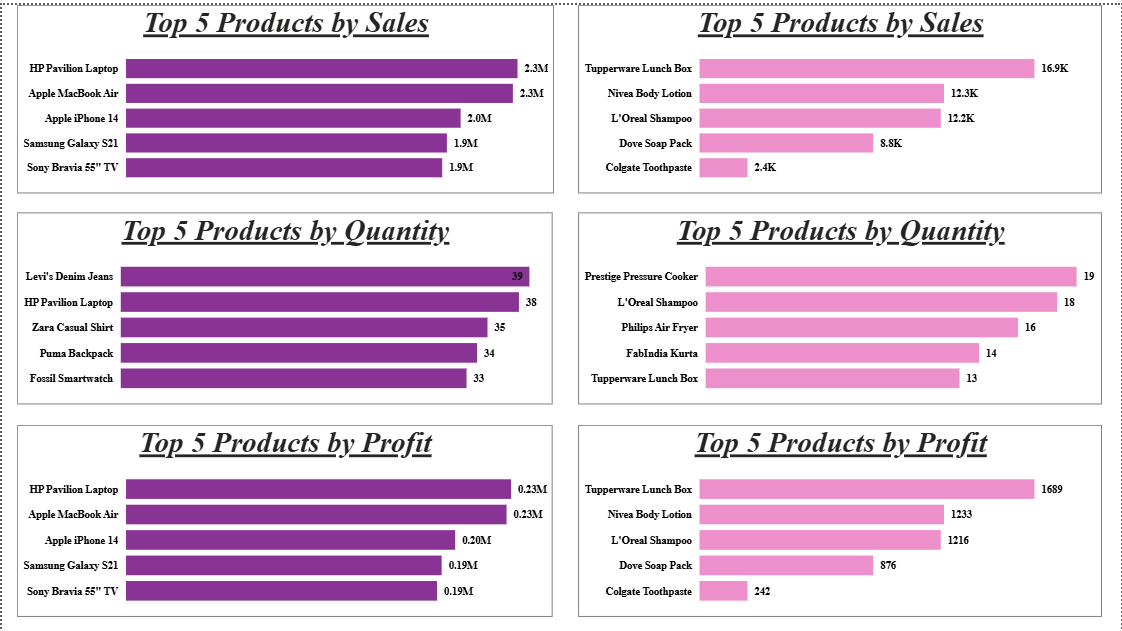

What the dashboard file says about the page in this screenshot:
{"tool":"powerbi","page":{"name":"Top/Bottom 5 Product Analysis","canvas":[1280,720],"ordinal":1},"visuals":[{"type":"barChart","title":"Top 5 Products by Sales ","fields":{"Category":["Dim Product.Product Name"],"Y":["Sum(Fact Data.Net Sales)"]},"box":[16.5,0,613.4,215.4],"z":0},{"type":"barChart","title":"Top 5 Products by Sales ","fields":{"Category":["Dim Product.Product Name"],"Y":["Sum(Fact Data.Net Sales)"]},"box":[658.7,0,598.3,215.4],"z":1000},{"type":"barChart","title":"Top 5 Products by Quantity","fields":{"Category":["Dim Product.Product Name"],"Y":["Sum(Fact Data.Units Sold)"]},"box":[16.5,237.4,612,219.6],"z":2000},{"type":"barChart","title":"Top 5 Products by Quantity","fields":{"Category":["Dim Product.Product Name"],"Y":["Sum(Fact Data.Units Sold)"]},"box":[658.7,237.4,598.3,219.6],"z":3000},{"type":"barChart","title":"Top 5 Products by Profit","fields":{"Category":["Dim Product.Product Name"],"Y":["Sum(Fact Data.Profit)"]},"box":[16.5,480.3,612,219.6],"z":4000},{"type":"barChart","title":"Top 5 Products by Profit","fields":{"Category":["Dim Product.Product Name"],"Y":["Sum(Fact Data.Profit)"]},"box":[658.7,480.3,598.3,219.6],"z":5000}]}

Visuals, with their boxes in screenshot pixels (x1, y1, x2, y2), scaled from the page's 1280x720 canvas onto the 1122x631 screenshot:
"Top 5 Products by Sales " barChart: [14, 0, 552, 189]
"Top 5 Products by Sales " barChart: [577, 0, 1102, 189]
"Top 5 Products by Quantity" barChart: [14, 208, 551, 401]
"Top 5 Products by Quantity" barChart: [577, 208, 1102, 401]
"Top 5 Products by Profit" barChart: [14, 421, 551, 613]
"Top 5 Products by Profit" barChart: [577, 421, 1102, 613]
